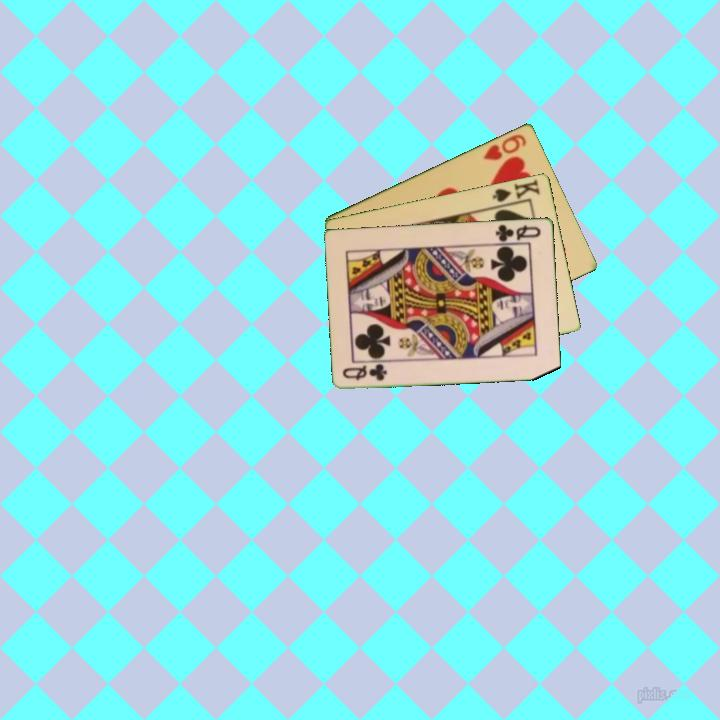6h: (480, 130, 529, 163)
Ks: (489, 175, 543, 205)
Qc: (491, 220, 544, 246), (339, 361, 390, 384)
